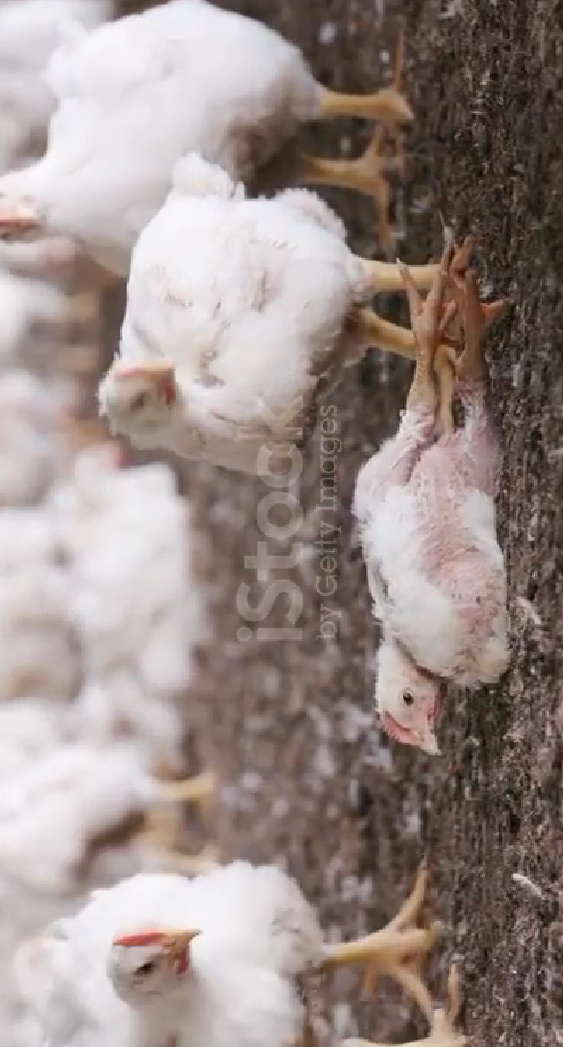Healthy: (71, 155, 406, 450)
Unhealthy: (309, 236, 533, 797)
